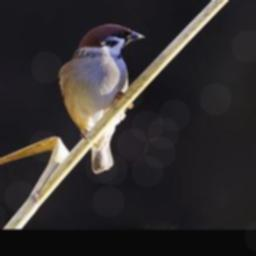Sparrow: (56, 22, 147, 174)
